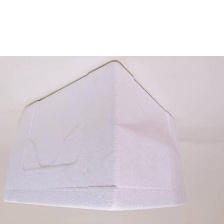foam_box: (0, 57, 187, 214)
